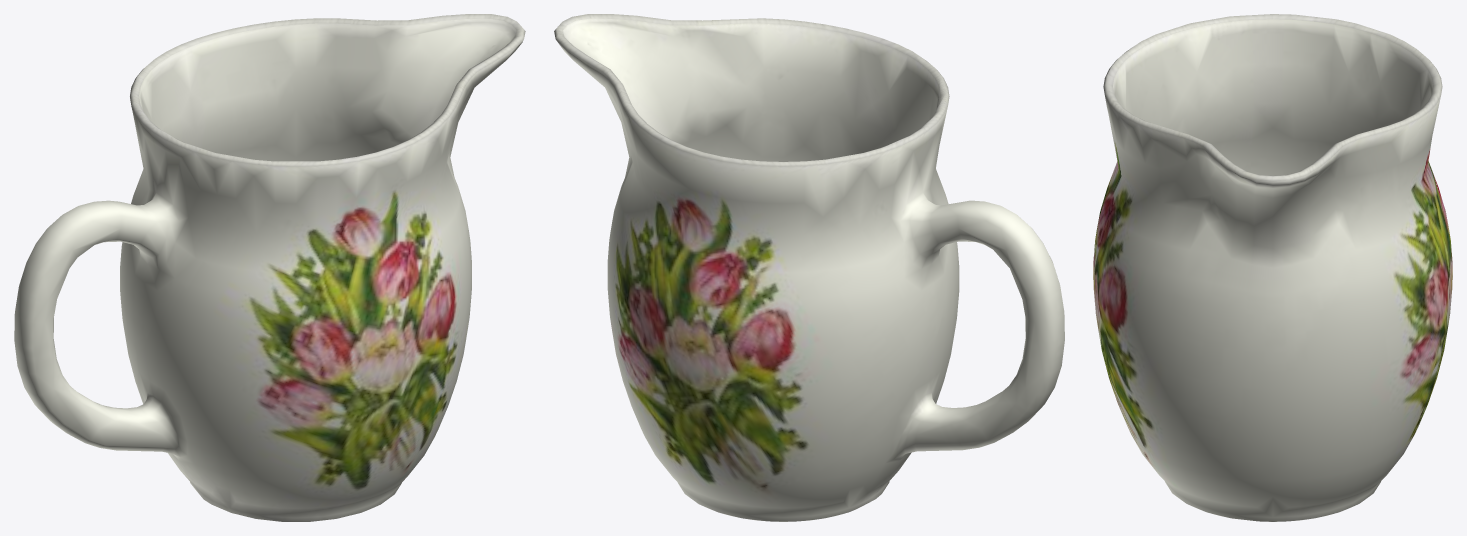
The model's file is water_jug.glb.
3 views of the same model, side by side, from view 1: azimuth 30°, elevation 25°; view 2: azimuth 150°, elevation 25°; view 3: azimuth 270°, elevation 25° (orthographic). The views are drawn at different scales.
Parts seen in each view (by area): view 1: jug_01; view 2: jug_01; view 3: jug_01.
Boxes of the visible parts, left/top/right/bottom form: jug_01: left=14, top=14, right=525, bottom=521; jug_01: left=554, top=14, right=1064, bottom=521; jug_01: left=1093, top=14, right=1452, bottom=521.
Size of the model in its own units: 0.275 by 0.2113 by 0.1675.
Materials: 1 (1 with a texture image).
